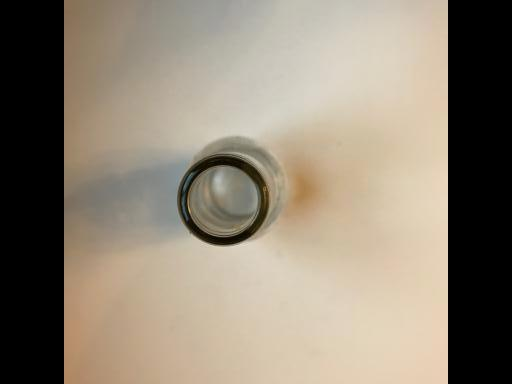metal: (176, 135, 289, 246)
